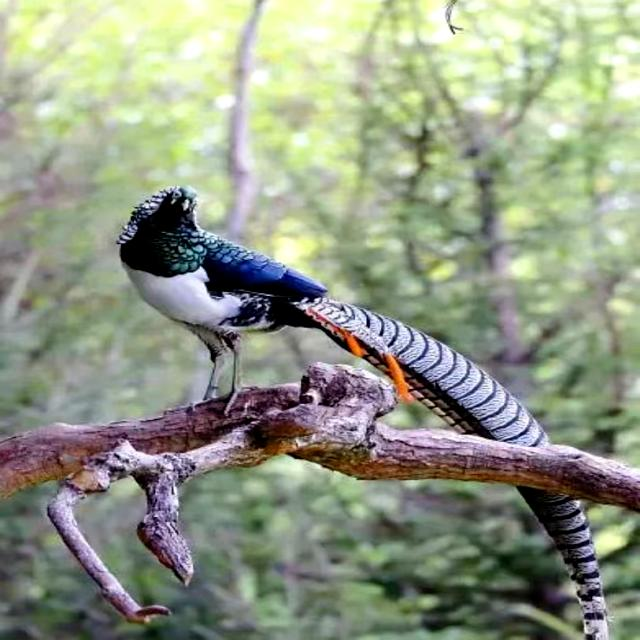Chrysolophus amherstiae: (335, 303, 549, 446), (517, 487, 609, 639)
